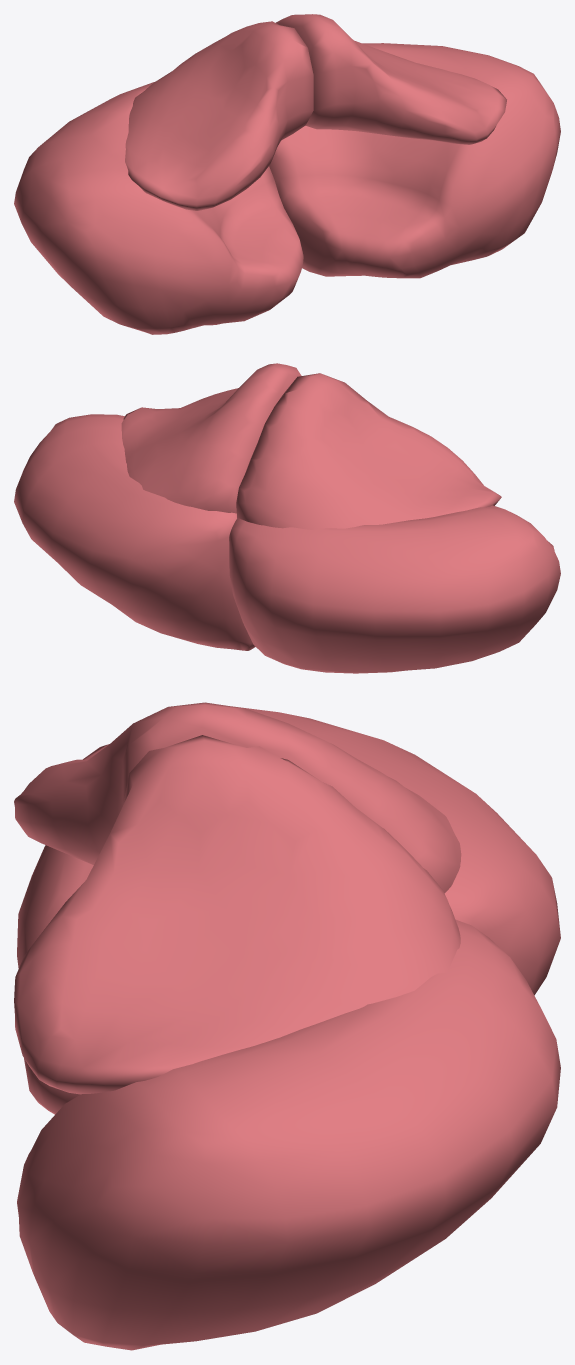
File: Cerebellum_New.fbx
3 renders of one model, top to bottom at view 1: azimuth 30°, elevation 25°; view 2: azimuth 150°, elevation 25°; view 3: azimuth 270°, elevation 25°, orthographic. The views are drawn at different scales.
Parts seen in each view (by area): view 1: newCerebellum01; view 2: newCerebellum01; view 3: newCerebellum01.
Boxes of the visible parts, x1,y1,x2,y2 form: newCerebellum01: [14, 14, 560, 334]; newCerebellum01: [14, 363, 560, 673]; newCerebellum01: [14, 702, 560, 1350].
Bounding box in the file's own units: 5383 × 2645 × 2667.
